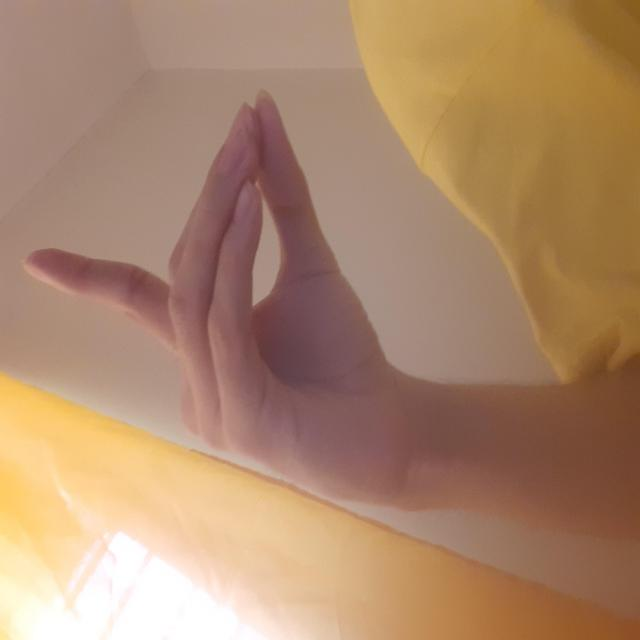D: (142, 24, 548, 372)
